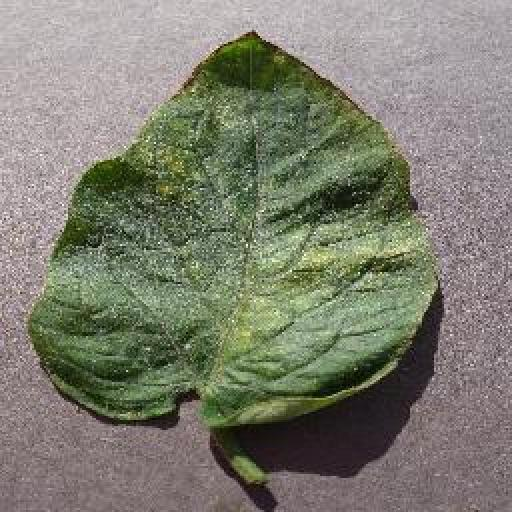disease_tomato: (32, 31, 437, 432)
